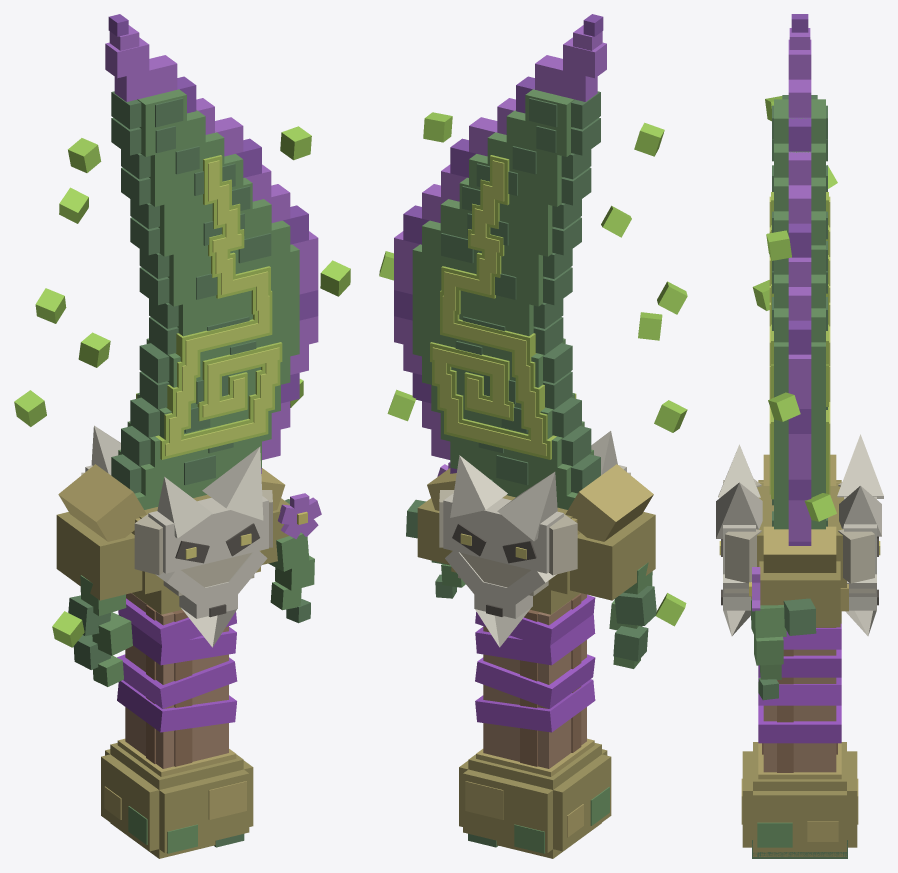
The model's file is glade_fox_claws_roblox.glb.
The picture shows the model from 3 angles, left to right: view 1: azimuth 30°, elevation 25°; view 2: azimuth 150°, elevation 25°; view 3: azimuth 270°, elevation 25°; orthographic projection. The views are drawn at different scales.
Visible parts, largest first — view 1: Daggers, Gems, Leaves; view 2: Daggers, Gems, Leaves; view 3: Daggers, Leaves, Gems.
Part boxes in pixels (left/top/right/bottom): Daggers: left=56, top=14, right=321, bottom=858; Gems: left=14, top=126, right=350, bottom=647; Leaves: left=68, top=499, right=314, bottom=853; Daggers: left=394, top=14, right=655, bottom=858; Gems: left=379, top=112, right=687, bottom=626; Leaves: left=406, top=499, right=656, bottom=853; Daggers: left=716, top=14, right=883, bottom=856; Leaves: left=751, top=598, right=847, bottom=858; Gems: left=719, top=96, right=880, bottom=555.
Bounding box in the file's own units: 0.3391 × 0.842 × 0.1611.
